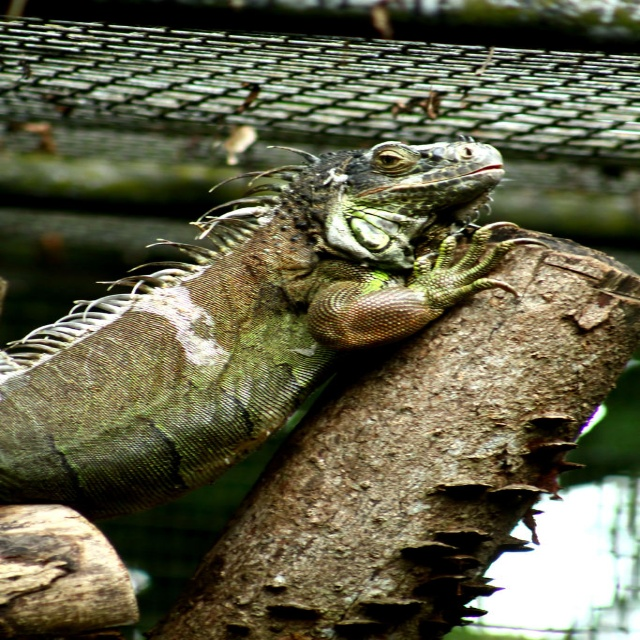Lizard: (12, 121, 607, 586)
